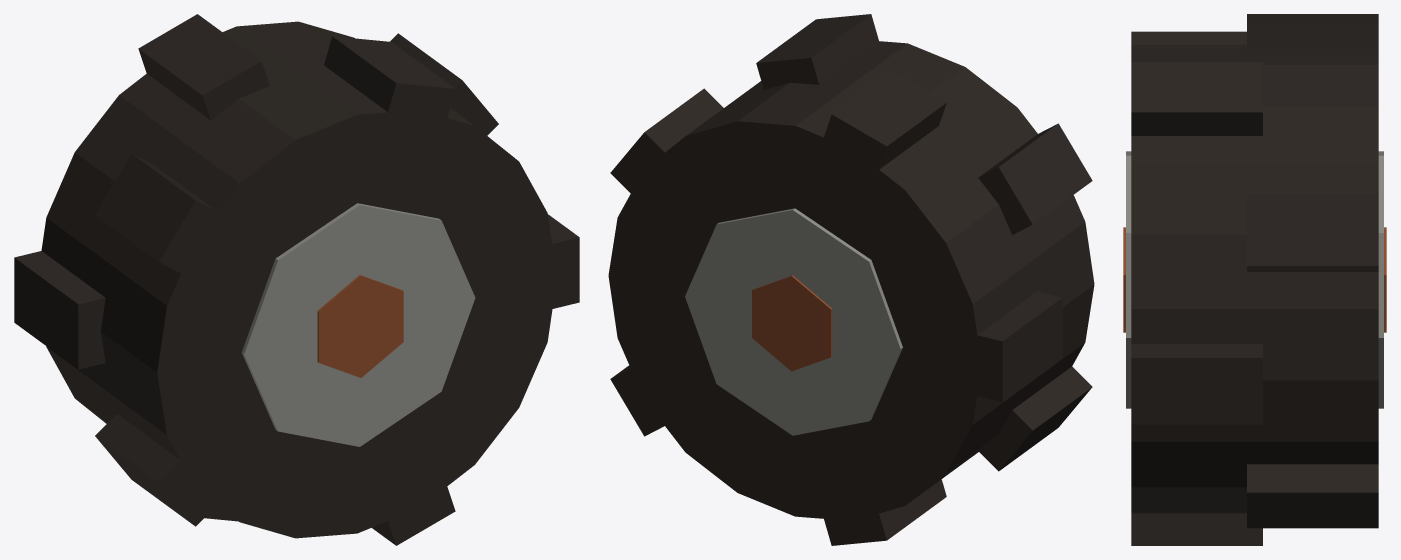
Rendered from wheel.glb.
3 renders of one model, left to right at view 1: azimuth 30°, elevation 25°; view 2: azimuth 150°, elevation 25°; view 3: azimuth 270°, elevation 25°, orthographic. The views are drawn at different scales.
Parts seen in each view (by area): view 1: wheel; view 2: wheel; view 3: wheel.
Boxes of the visible parts, x1,y1,x2,y2 form: wheel: (14,14,579,545); wheel: (608,14,1094,545); wheel: (1123,14,1386,545).
Size of the model in its own units: 2 by 1.99 by 1.
